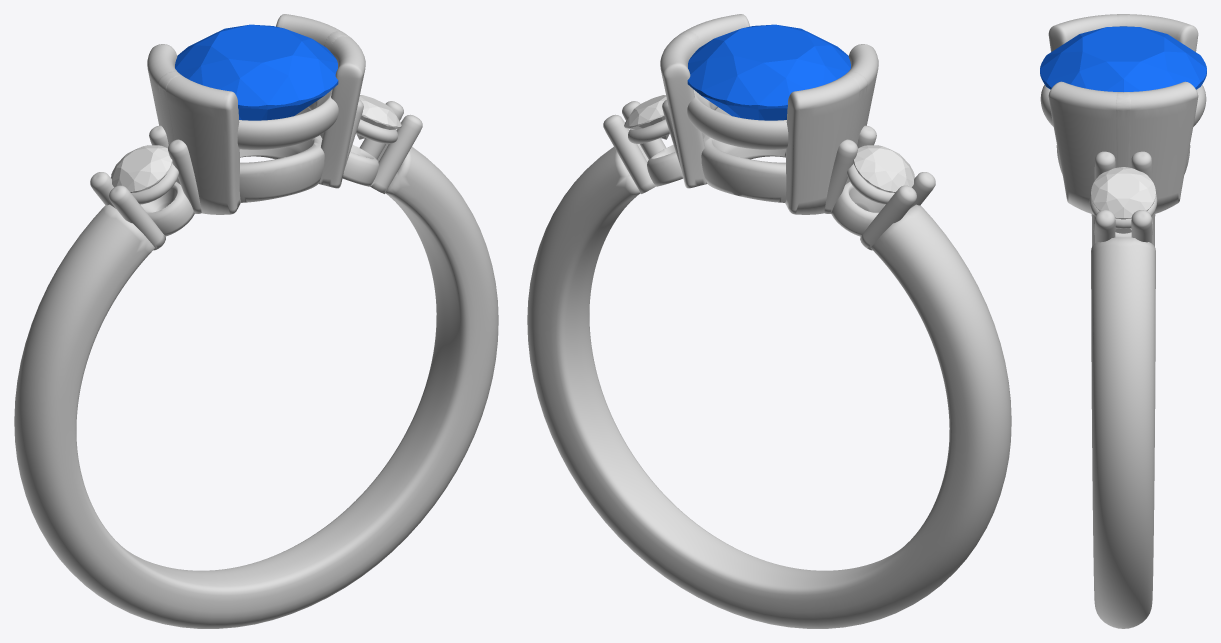
The model's file is bluesapphire-round-platinum-halfmoonbezel-straightband-2stone.glb.
The picture shows the model from 3 angles, left to right: view 1: azimuth 30°, elevation 25°; view 2: azimuth 150°, elevation 25°; view 3: azimuth 270°, elevation 25°; orthographic projection. The views are drawn at different scales.
Parts seen in each view (by area): view 1: metal, stone, side.001, side; view 2: metal, stone, side.001, side; view 3: metal, stone, side.
Boxes of the visible parts, x1=… form: metal: x1=14, y1=14, x2=498, y2=628; stone: x1=175, y1=24, x2=338, y2=120; side.001: x1=111, y1=145, x2=172, y2=192; side: x1=356, y1=95, x2=401, y2=139; metal: x1=527, y1=14, x2=1011, y2=628; stone: x1=687, y1=24, x2=850, y2=120; side.001: x1=853, y1=145, x2=914, y2=192; side: x1=624, y1=95, x2=669, y2=139; metal: x1=1040, y1=14, x2=1206, y2=628; stone: x1=1040, y1=26, x2=1206, y2=91; side: x1=1091, y1=167, x2=1155, y2=219.
Bounding box in the file's own units: 20.5 × 23.8 × 6.44.
